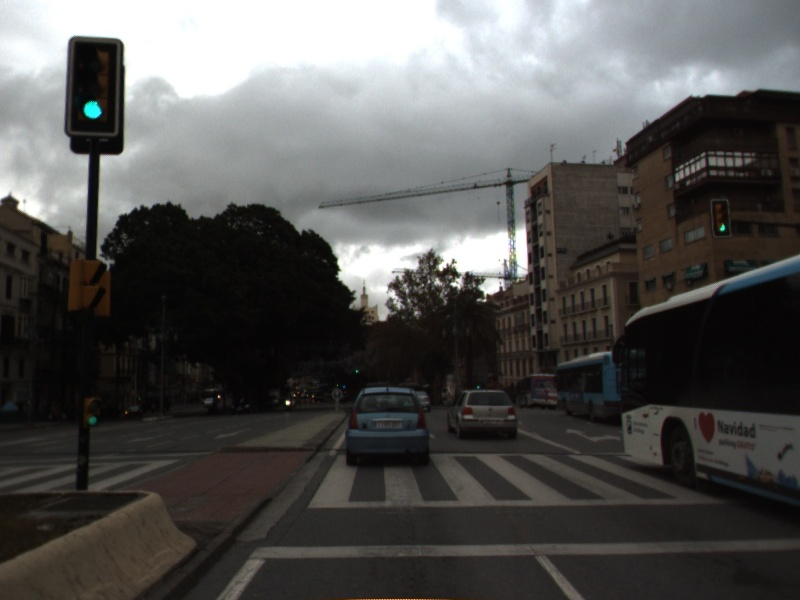STRAIGHT_RIGHT: (564, 425, 623, 444)
